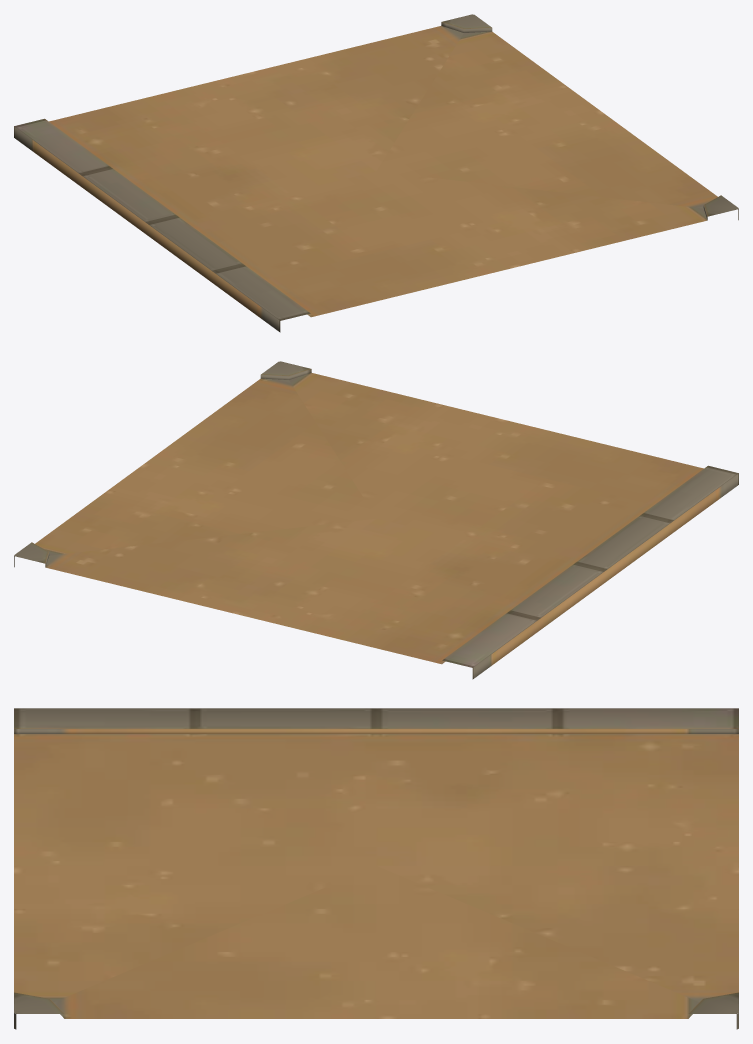
Rendered from tile.tee.glb.
3 views of the same model, one above another, from view 1: azimuth 30°, elevation 25°; view 2: azimuth 150°, elevation 25°; view 3: azimuth 270°, elevation 25° (orthographic). The views are drawn at different scales.
Parts seen in each view (by area): view 1: path.tile.tee; view 2: path.tile.tee; view 3: path.tile.tee.
Part boxes in pixels (box(x1,y1,x2,y2)): path.tile.tee: box(14, 14, 738, 332); path.tile.tee: box(14, 361, 738, 679); path.tile.tee: box(14, 708, 738, 1029).
Size of the model in its own units: 0.997 by 0.024 by 1.
1 material, 1 textured.
